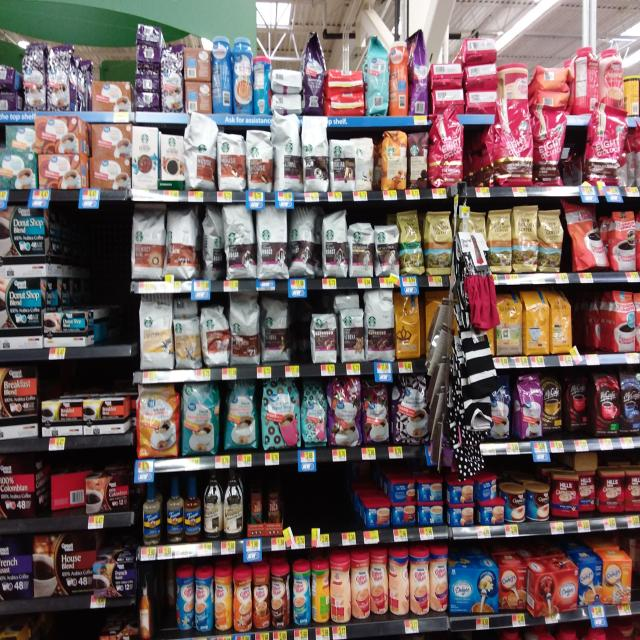void: (94, 257, 130, 363), (572, 286, 602, 368), (285, 474, 315, 551), (323, 476, 349, 550), (155, 563, 175, 640), (567, 124, 586, 205)
